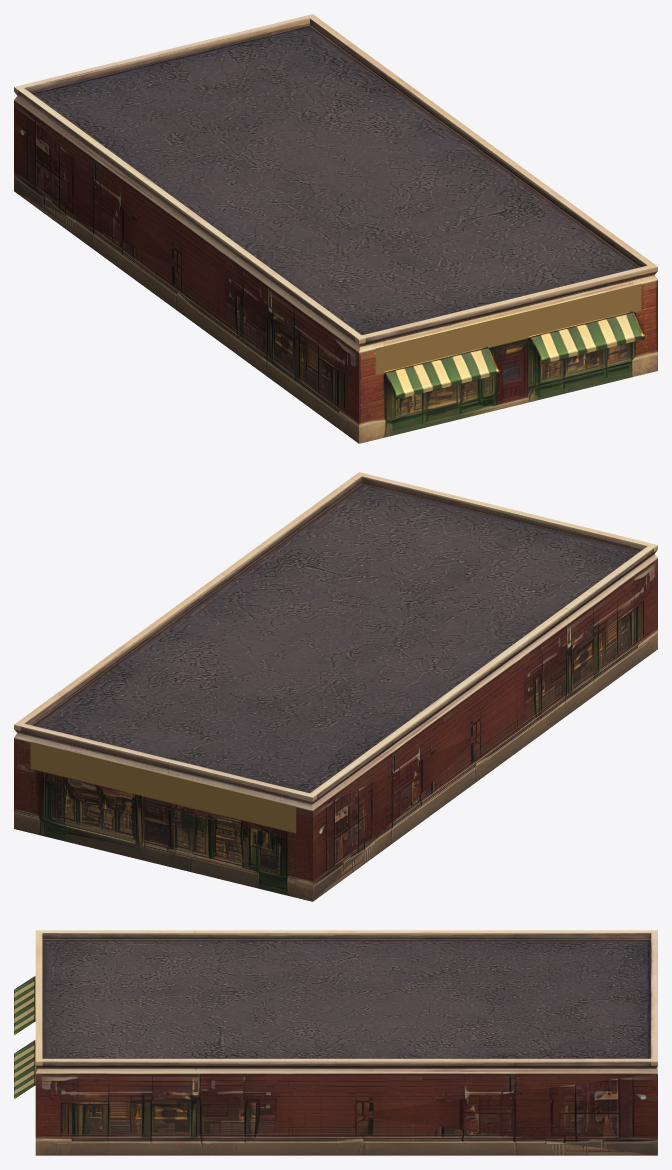
Rendered from LM_Drugstore.fbx.
3 renders of one model, top to bottom at view 1: azimuth 30°, elevation 25°; view 2: azimuth 150°, elevation 25°; view 3: azimuth 270°, elevation 25°, orthographic. The views are drawn at different scales.
Parts seen in each view (by area): view 1: LM_Drugstore; view 2: LM_Drugstore; view 3: LM_Drugstore.
Boxes of the visible parts, x1=… form: LM_Drugstore: x1=14, y1=14, x2=657, y2=443; LM_Drugstore: x1=14, y1=472, x2=657, y2=901; LM_Drugstore: x1=14, y1=930, x2=657, y2=1155.
Bounding box in the file's own units: 18 × 37.25 × 6.
1 material, 1 textured.
